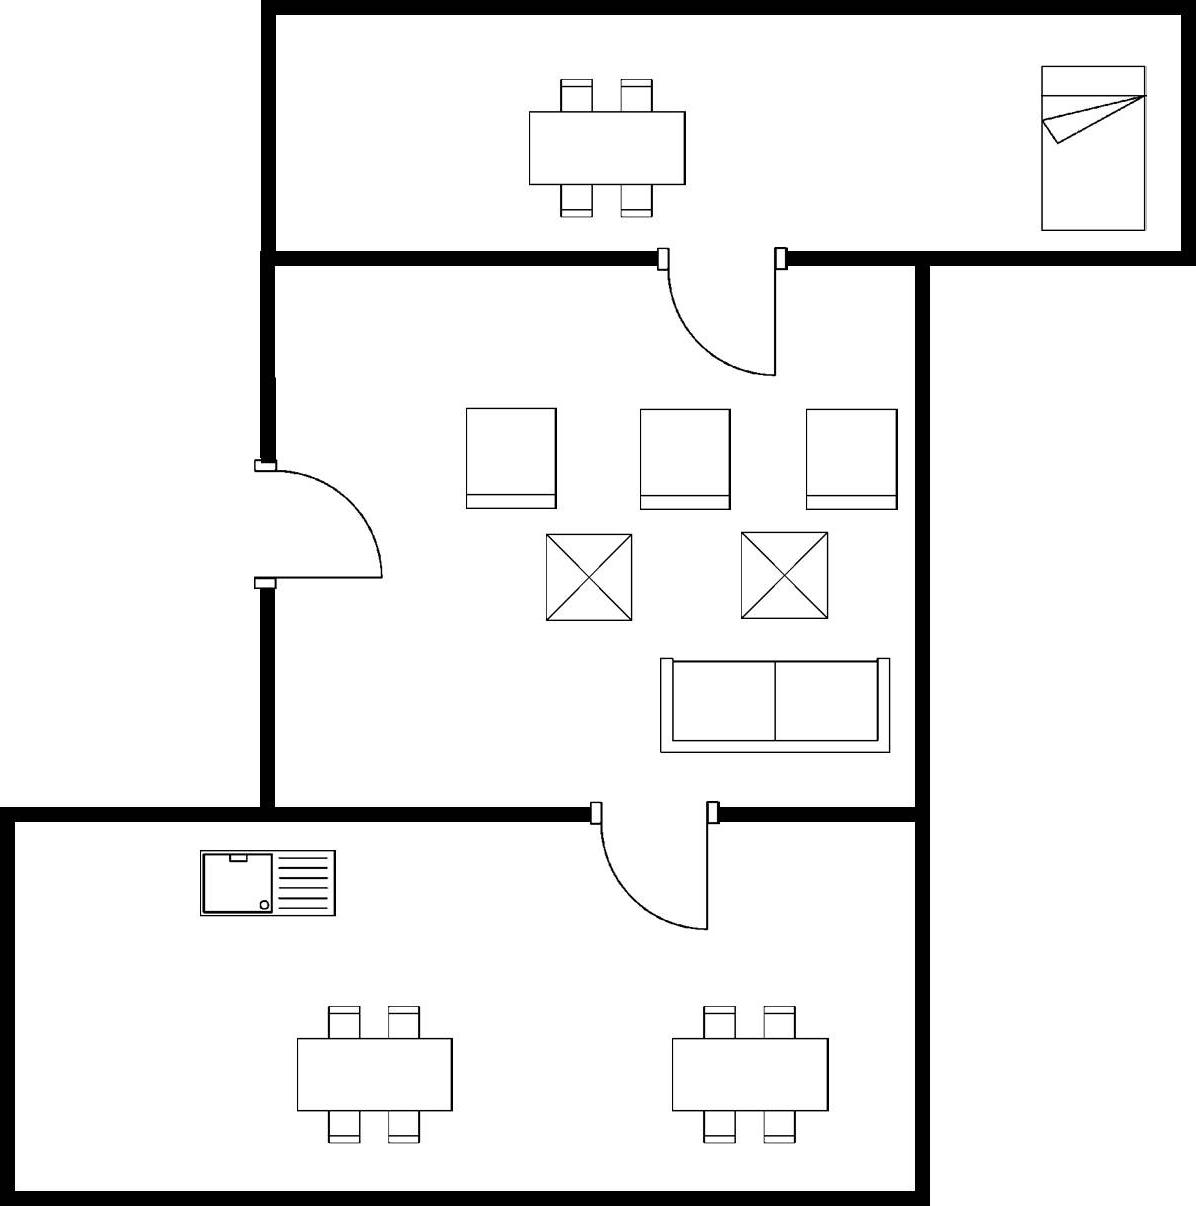bed: (1031, 53, 1155, 236)
dining_table: (663, 992, 843, 1148), (283, 998, 463, 1150), (519, 69, 695, 223)
sink: (189, 841, 345, 928)
sofa: (653, 648, 904, 760)
